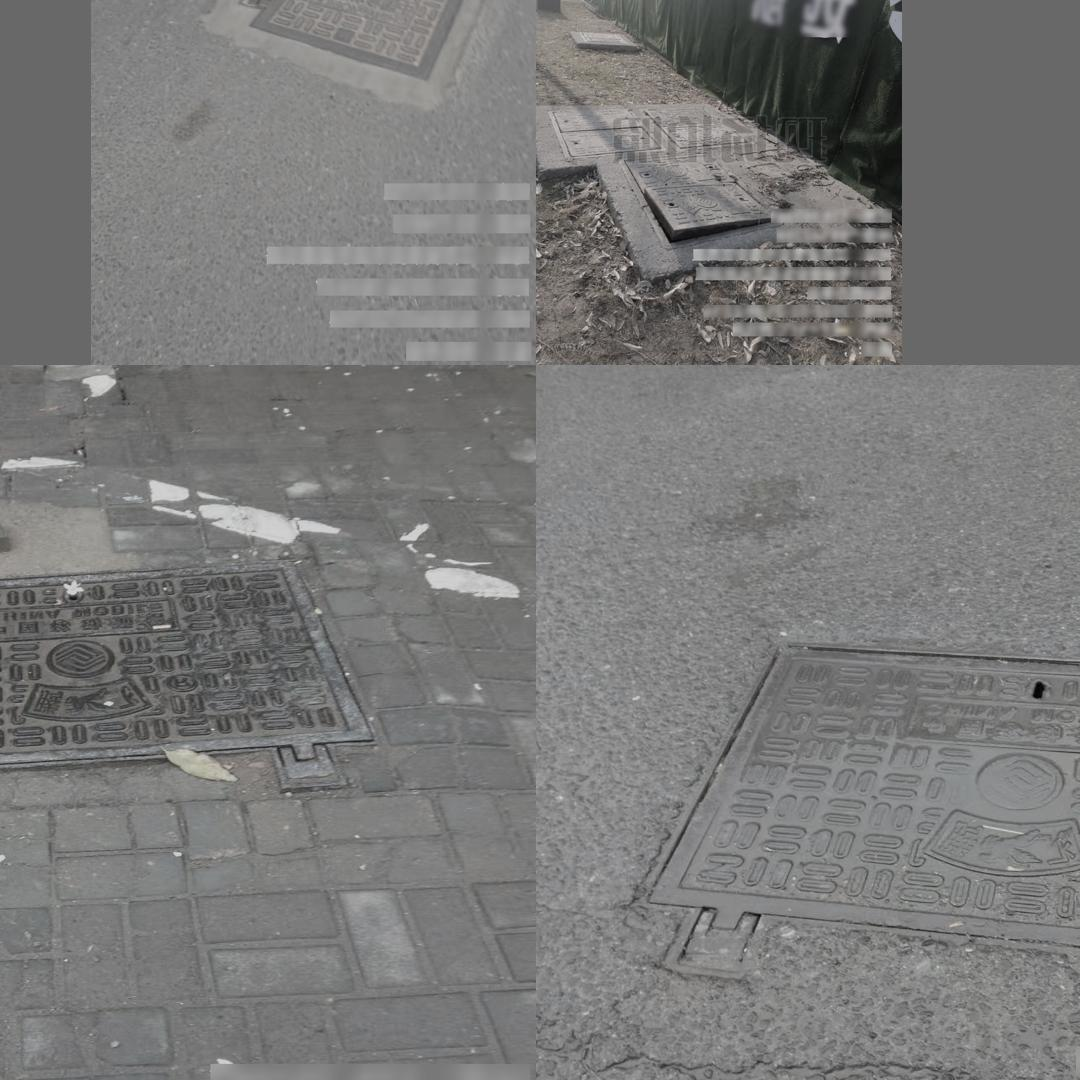good: (665, 665, 1080, 937), (0, 558, 375, 815), (216, 0, 494, 73), (546, 106, 663, 157), (642, 106, 751, 149), (578, 32, 626, 43)
uncovered: (617, 154, 783, 251)
